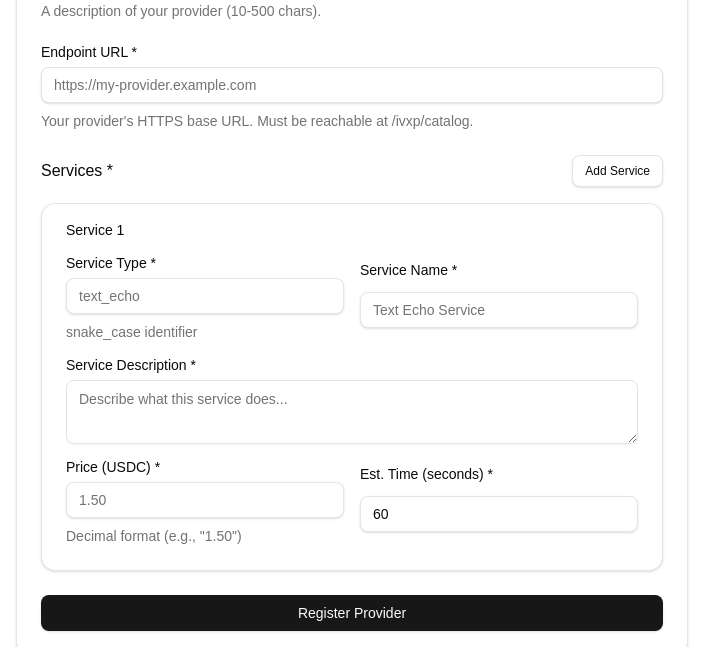
Test case: ProviderRegistrationForm › shows validation errors for empty required fields on submit
(page scrolled)
Step 1. Click the button with test id "submit-button" → (352, 613), box [41,595,663,631]
(page scrolled)
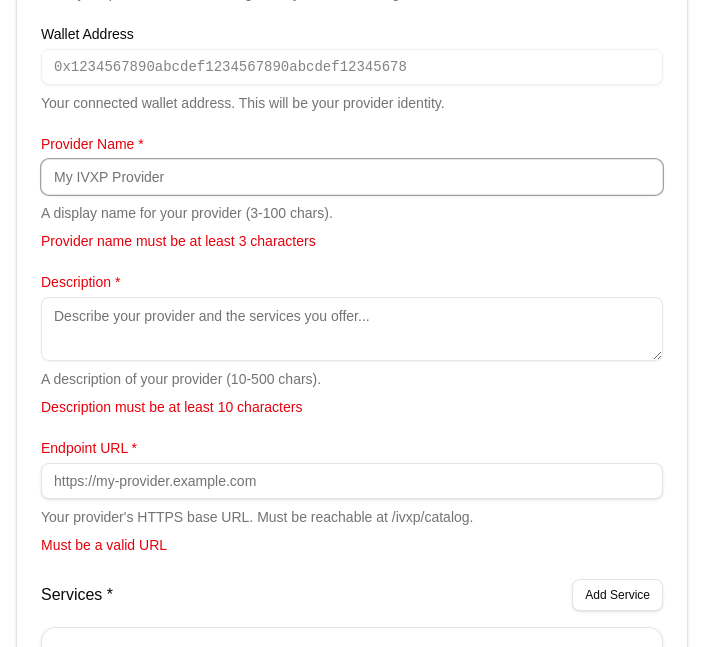
Now the message "Provider name must be at least 3 characters" is shown, box [41,233,316,249]
